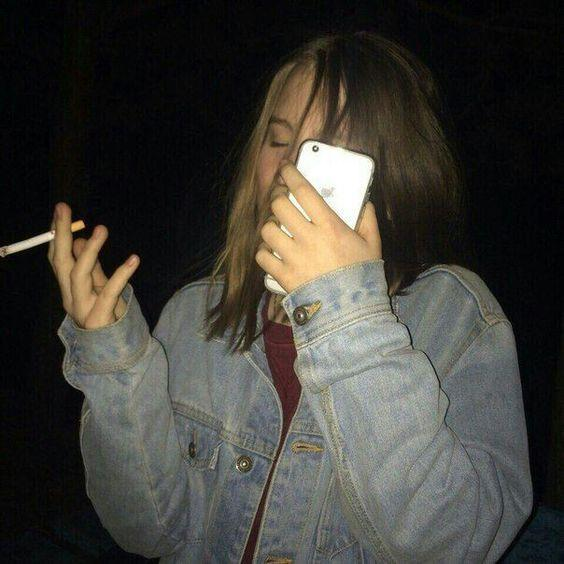cigarette: (0, 219, 86, 258)
